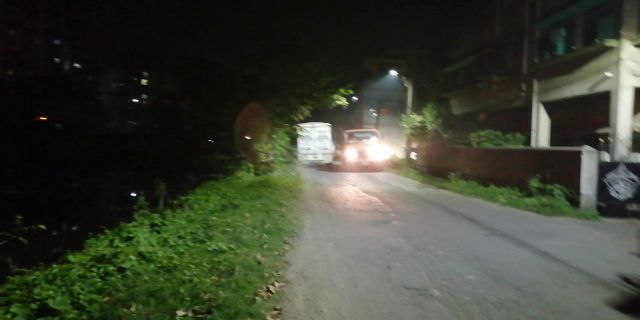Minitruck: (295, 114, 333, 168)
Truck: (346, 126, 391, 173)
